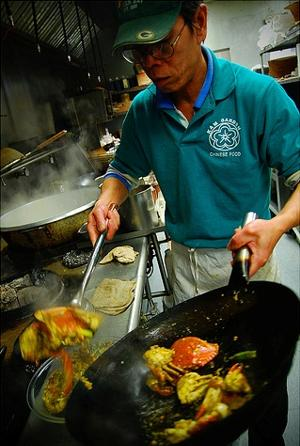person: (87, 3, 300, 308)
